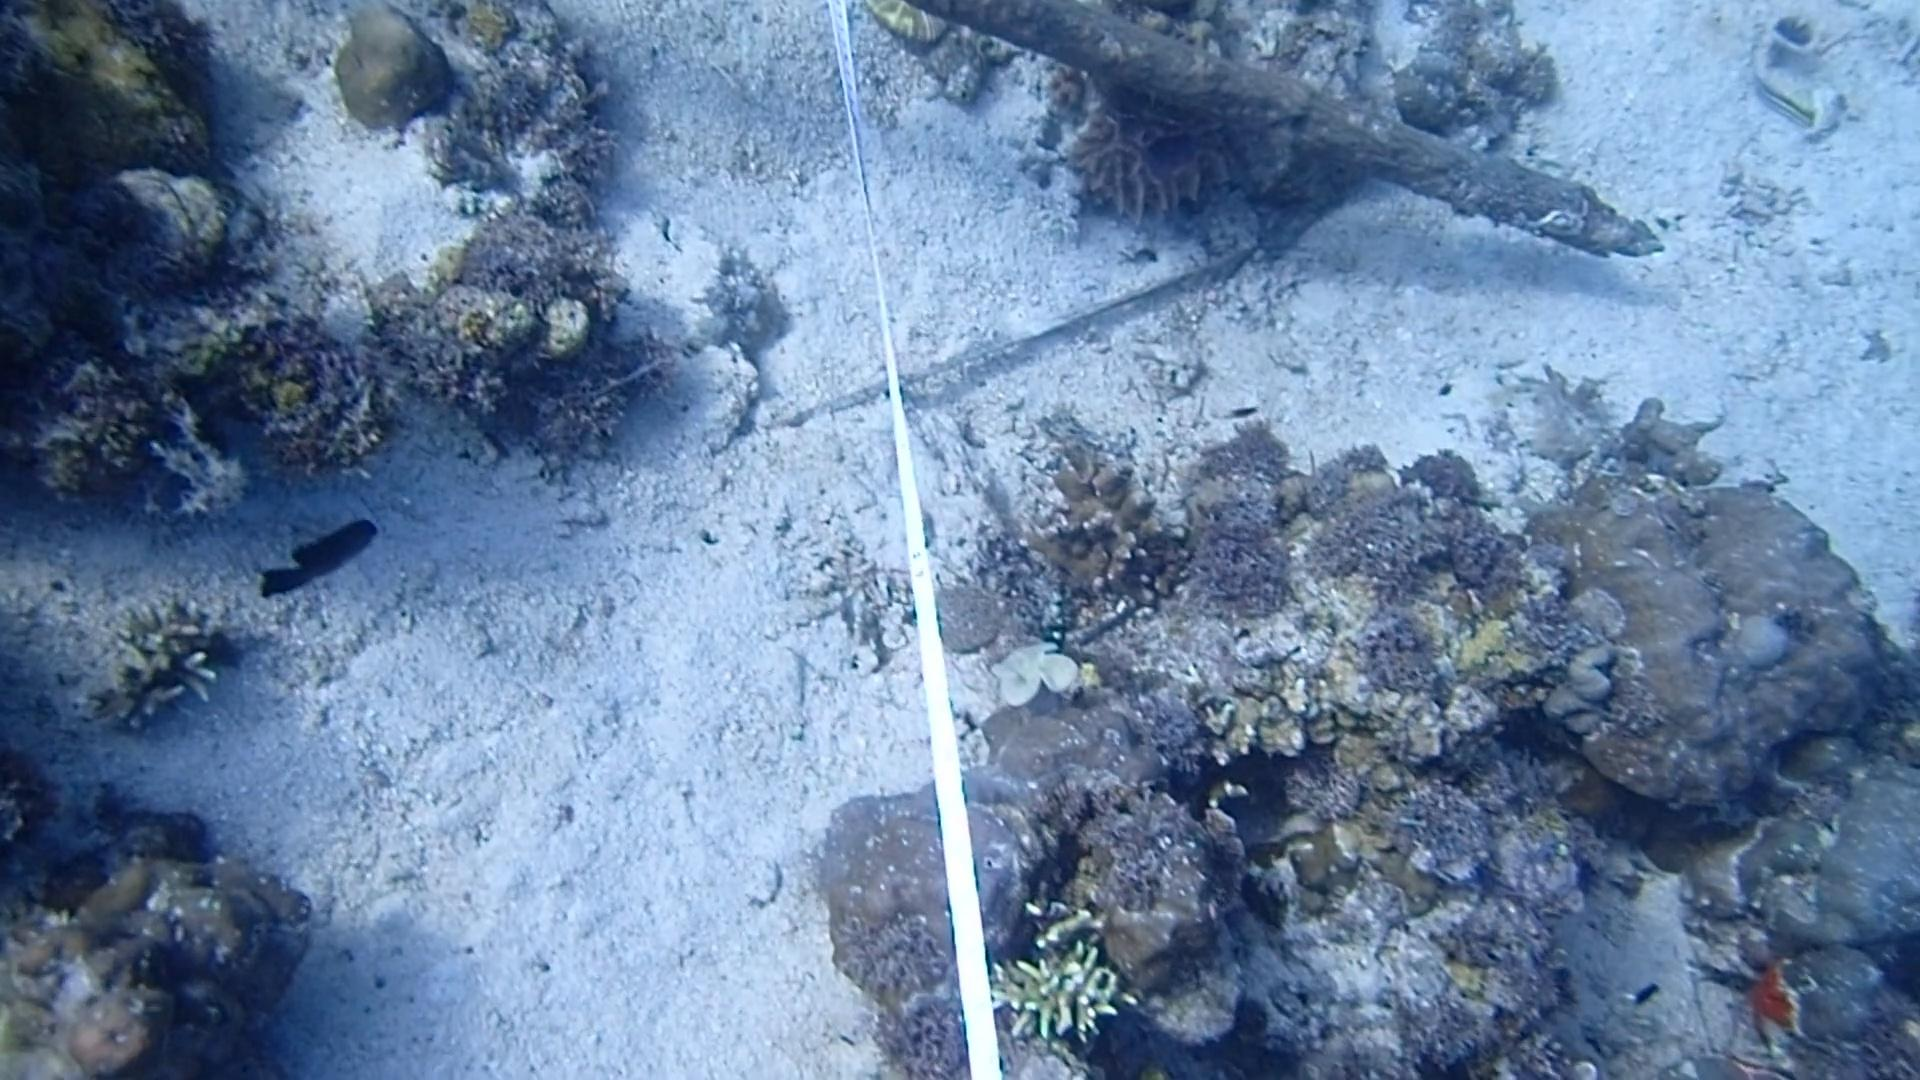Dark Fish: (252, 506, 385, 604)
Striped Fish: (1734, 61, 1841, 146)
